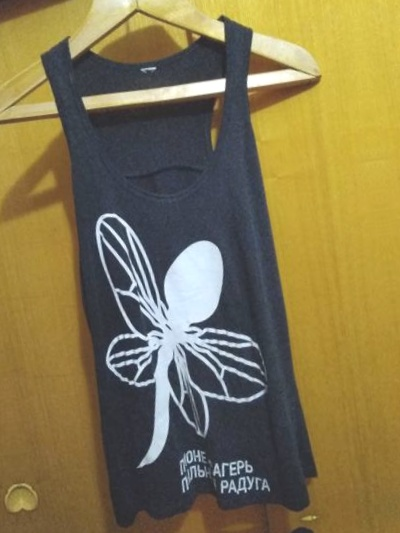Dress: (7, 0, 364, 533), (79, 515, 400, 533)
